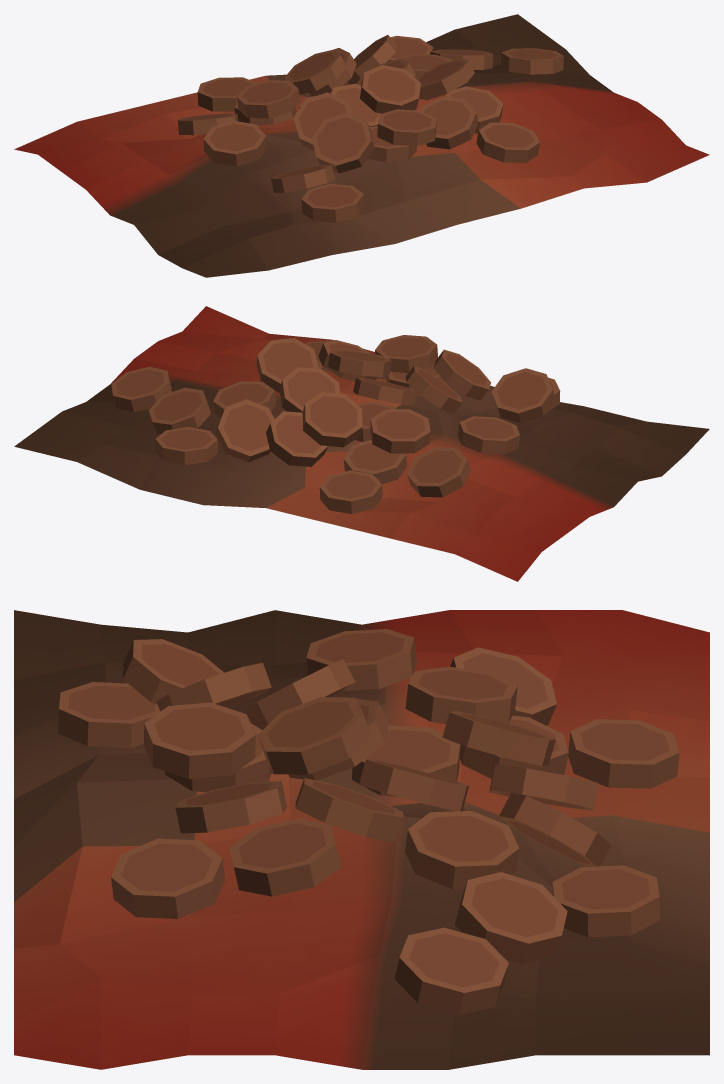
File: ChestV1_Loot.glb
The picture shows the model from 3 angles, top to bottom: view 1: azimuth 30°, elevation 25°; view 2: azimuth 150°, elevation 25°; view 3: azimuth 270°, elevation 25°; orthographic projection. The views are drawn at different scales.
Parts seen in each view (by area): view 1: ChestV1_Loot; view 2: ChestV1_Loot; view 3: ChestV1_Loot.
Part boxes in pixels (x1,y1,x2,y2): ChestV1_Loot: (14,14,709,277); ChestV1_Loot: (14,306,709,581); ChestV1_Loot: (14,610,709,1069).
Size of the model in its own units: 68.91 by 11.5 by 45.53.
1 material, 1 textured.
